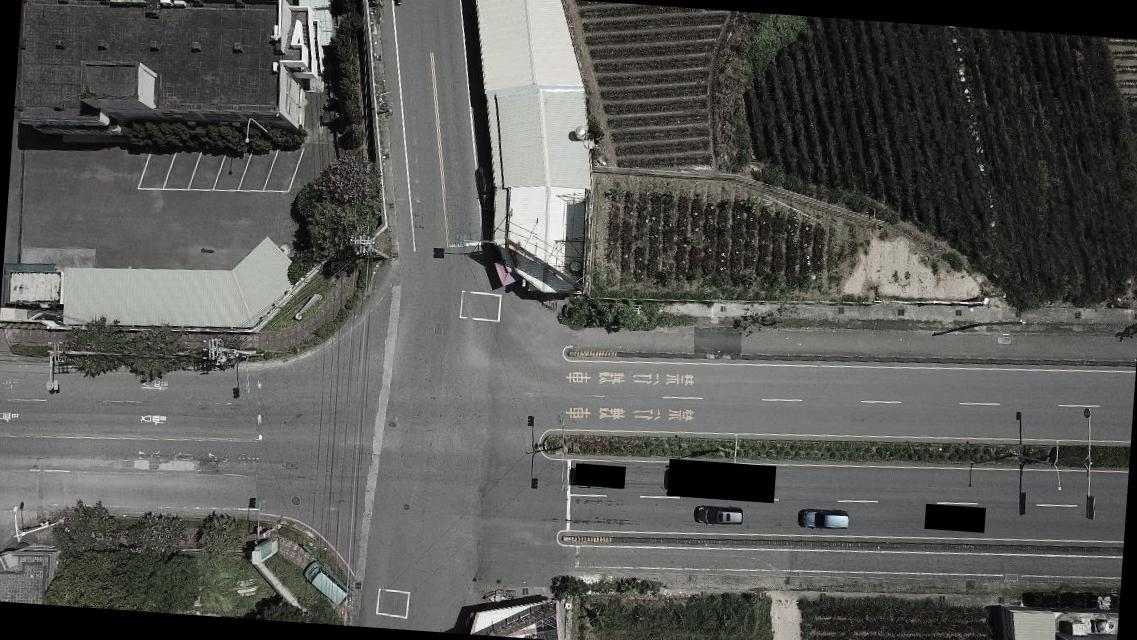vehicle: (302, 558, 356, 606), (692, 502, 745, 528), (798, 506, 851, 532)
